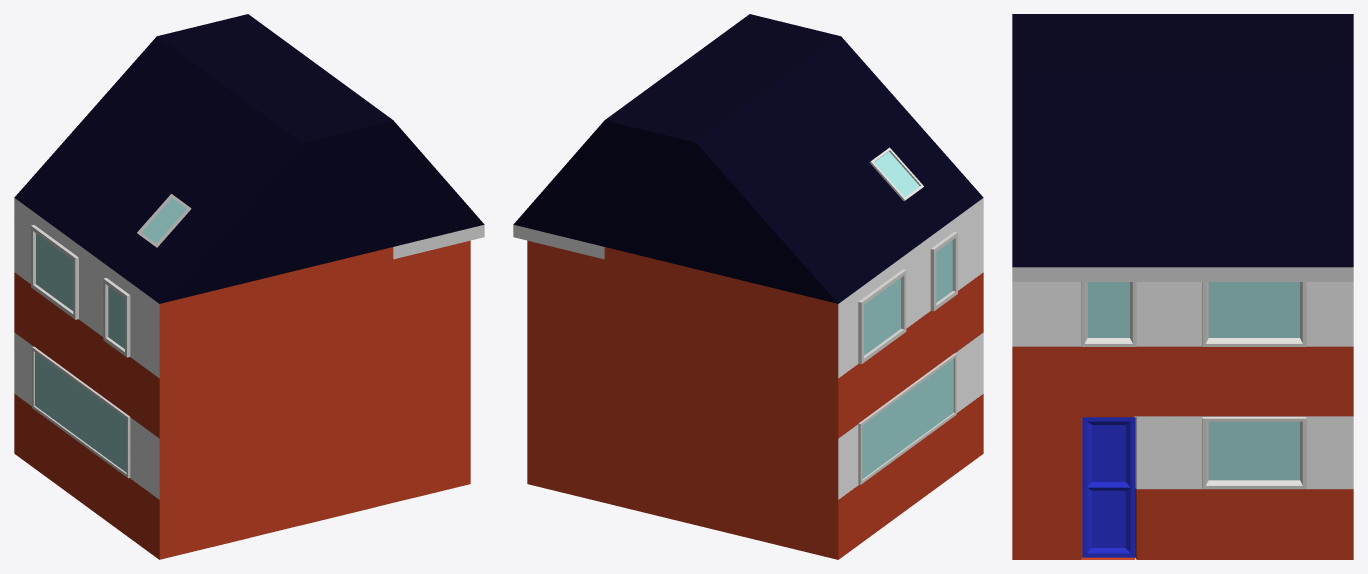
File: terraced house.fbx
The picture shows the model from 3 angles, left to right: view 1: azimuth 30°, elevation 25°; view 2: azimuth 150°, elevation 25°; view 3: azimuth 270°, elevation 25°; orthographic projection. The views are drawn at different scales.
Parts seen in each view (by area): view 1: House; view 2: House; view 3: House.
Boxes of the visible parts, box(x1,y1,x2,y2) form: House: box(14, 14, 484, 559); House: box(513, 14, 983, 559); House: box(1012, 14, 1353, 559).
Bounding box in the file's own units: 564 × 737 × 820.
Materials: 6 (1 with a texture image).
